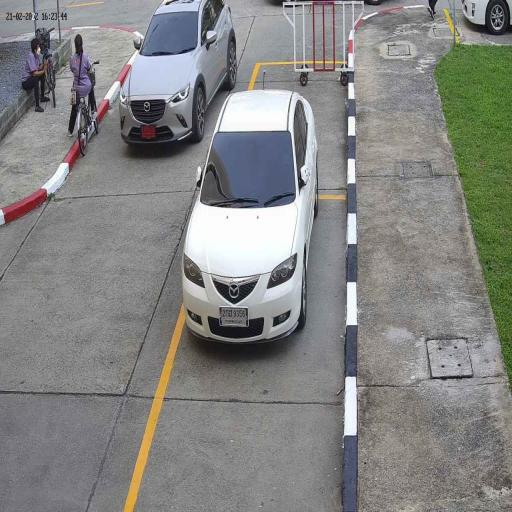car: (181, 88, 321, 353), (119, 0, 237, 142)
